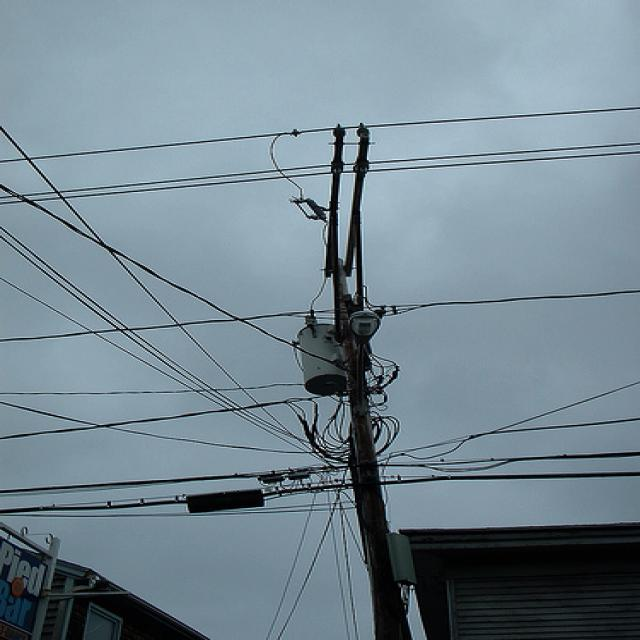crossarm: (345, 128, 370, 329), (323, 128, 345, 338)
pole: (335, 261, 411, 640)
transformer: (292, 319, 369, 403)
wire: (0, 106, 640, 164), (0, 230, 305, 344), (118, 330, 328, 458), (128, 259, 338, 362), (375, 381, 640, 460), (0, 392, 321, 440), (10, 480, 352, 517), (0, 165, 328, 198), (2, 465, 333, 494), (51, 165, 333, 198), (367, 143, 640, 172), (367, 142, 640, 163), (382, 451, 640, 470), (379, 291, 640, 308), (396, 471, 640, 483), (61, 220, 123, 256)
